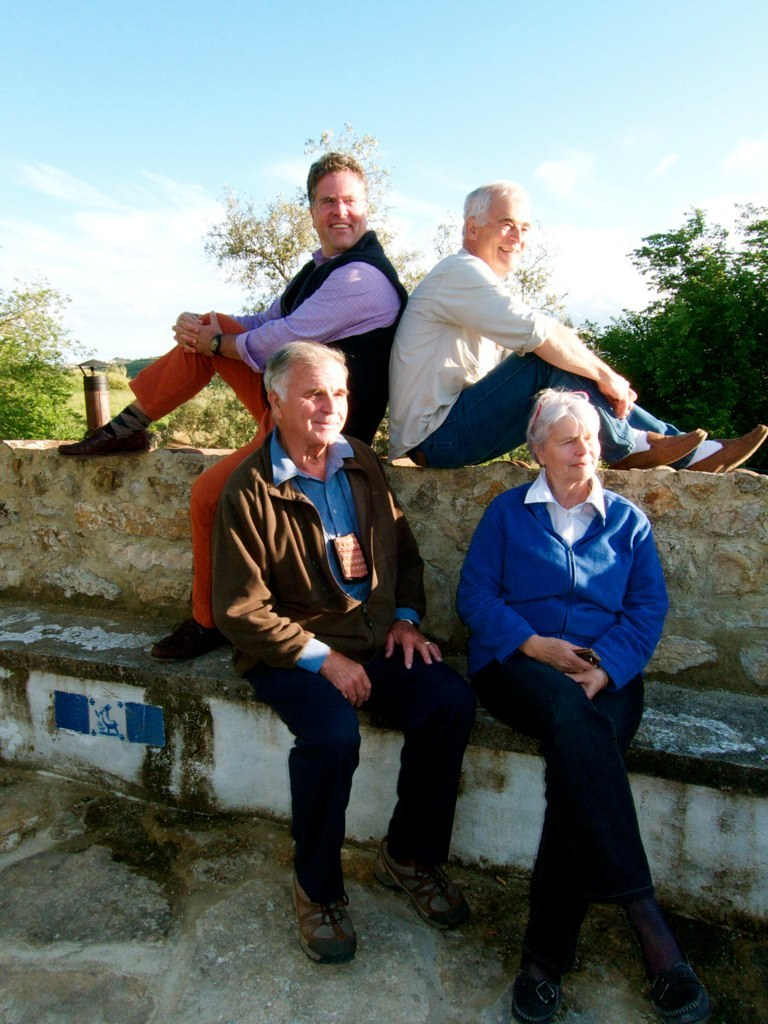Tree: (162, 113, 431, 440), (577, 193, 767, 476), (396, 213, 588, 336), (0, 279, 107, 437)
